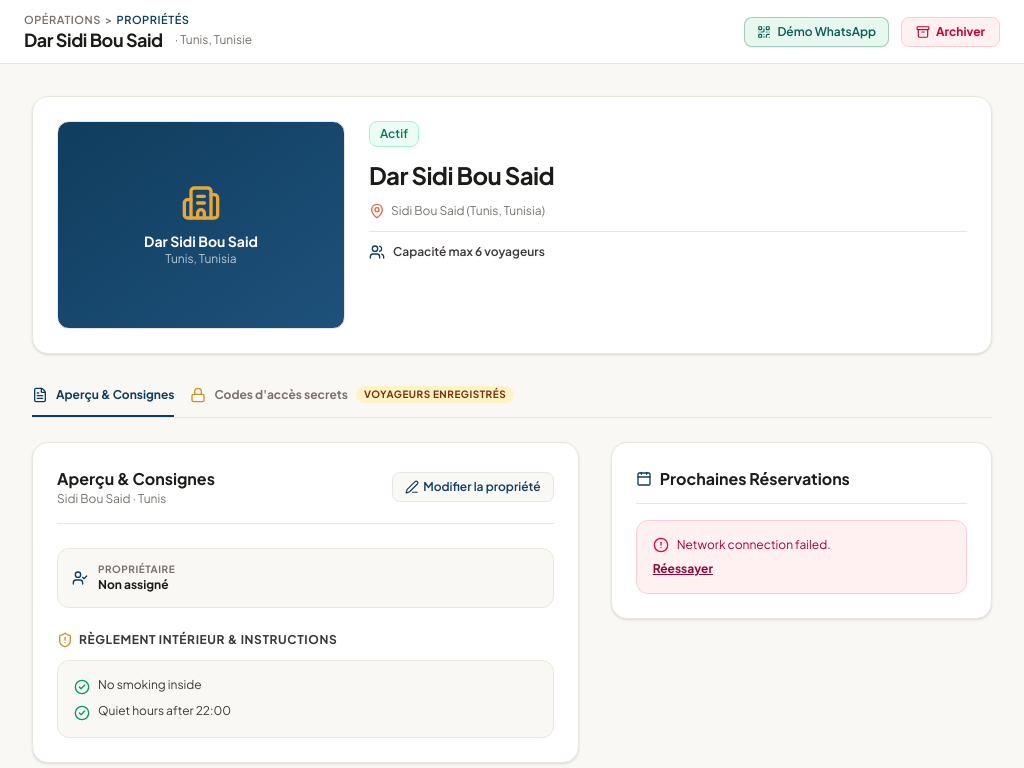
Test: PropertyDetailPage › renders retryable error banner when fetching bookings fails and retries on click
Expected: the message shows "Network connection failed.", [677,537,831,552]
Click the button "Réessayer" at (683, 569), box [653,561,713,577]
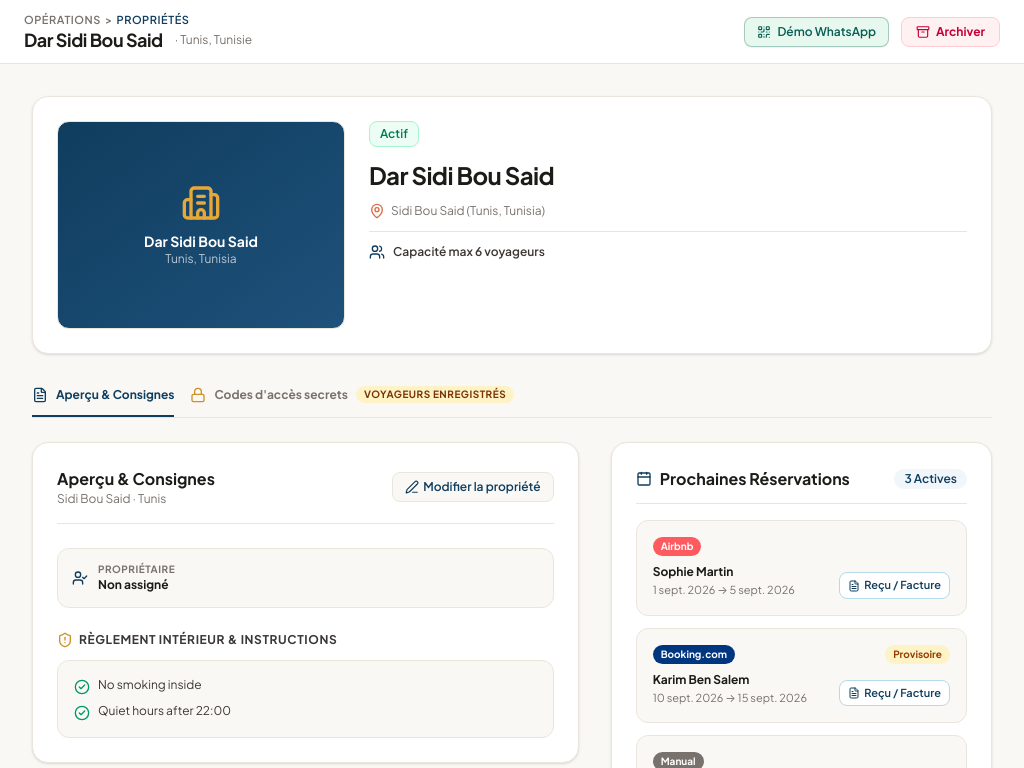
Expected: the text "Sophie Martin" is shown, [653,564,733,579]
